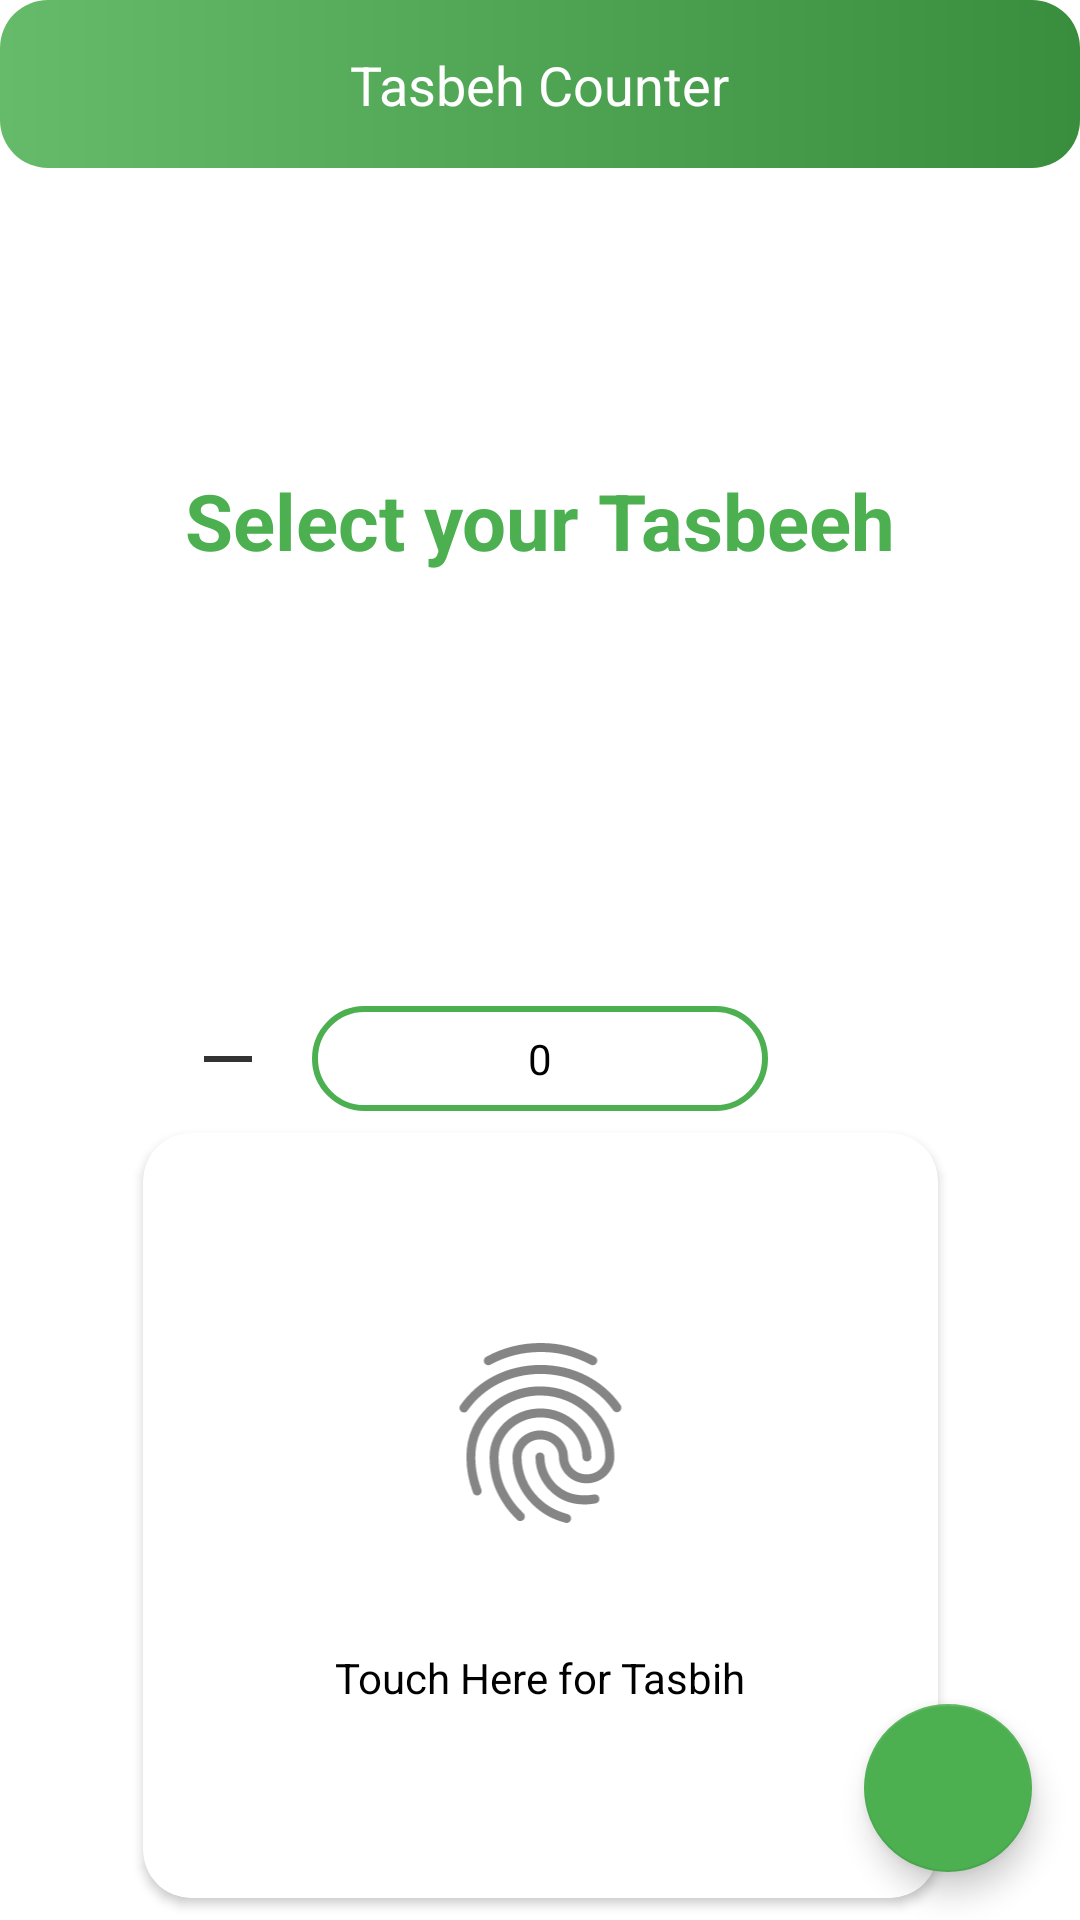

Icons on this 1080w x 1920h Android screen, each with its box as [x1, y1, x2, y2]:
fingerprint: [459, 1343, 622, 1523]
